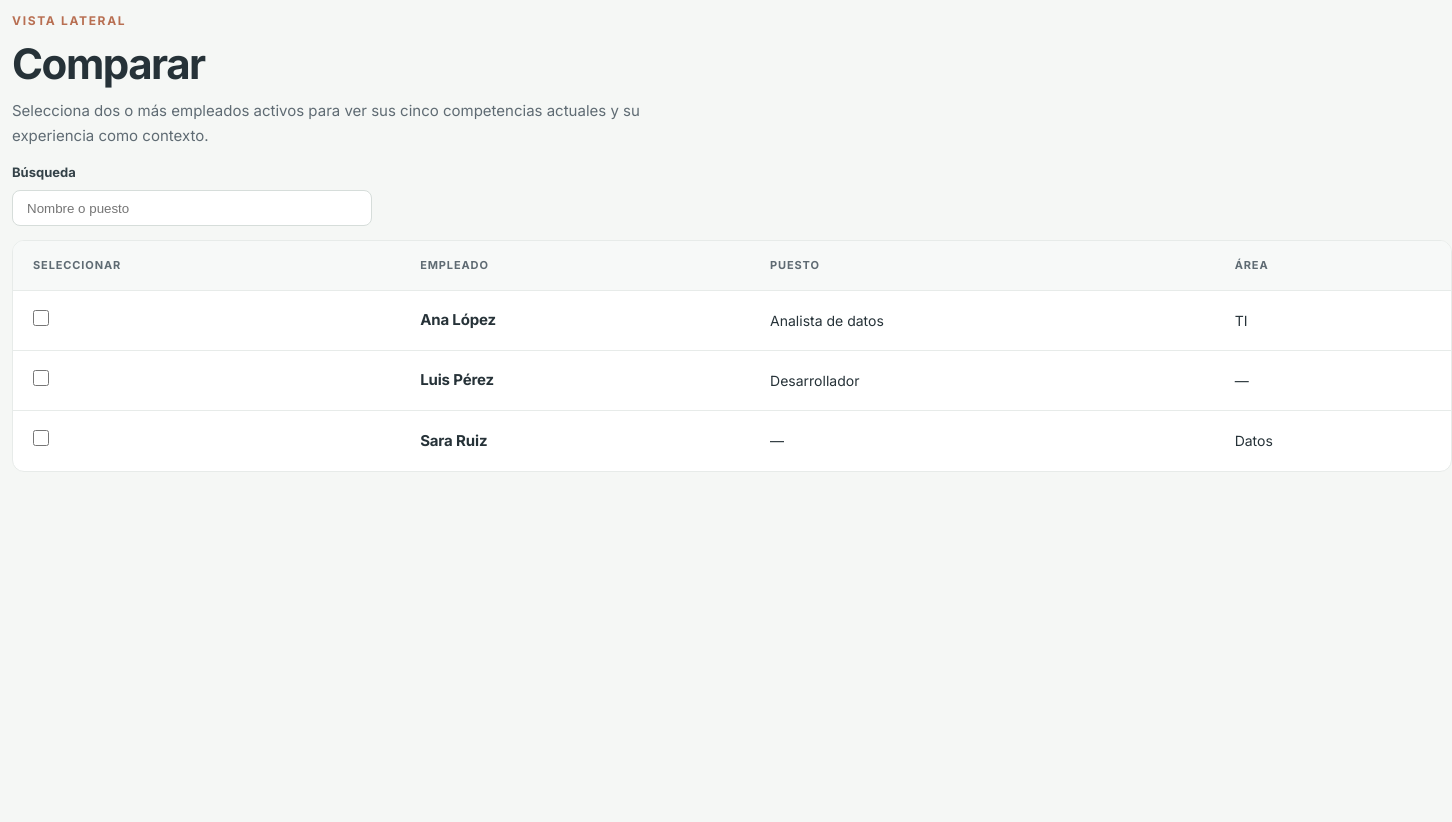
Comparar — selección (paso 1) › sin selección no hay barra contextual; con 1 aparece deshabilitada
The image size is (1452, 822).
expect the column heading "Ana López" is shown: met, box x1=400 y1=290 x2=750 y2=350
expect the text "seleccionad" is not shown: met
Click the checkbox named "Seleccionar a Ana López" at (41, 318), box x1=33 y1=310 x2=49 y2=326
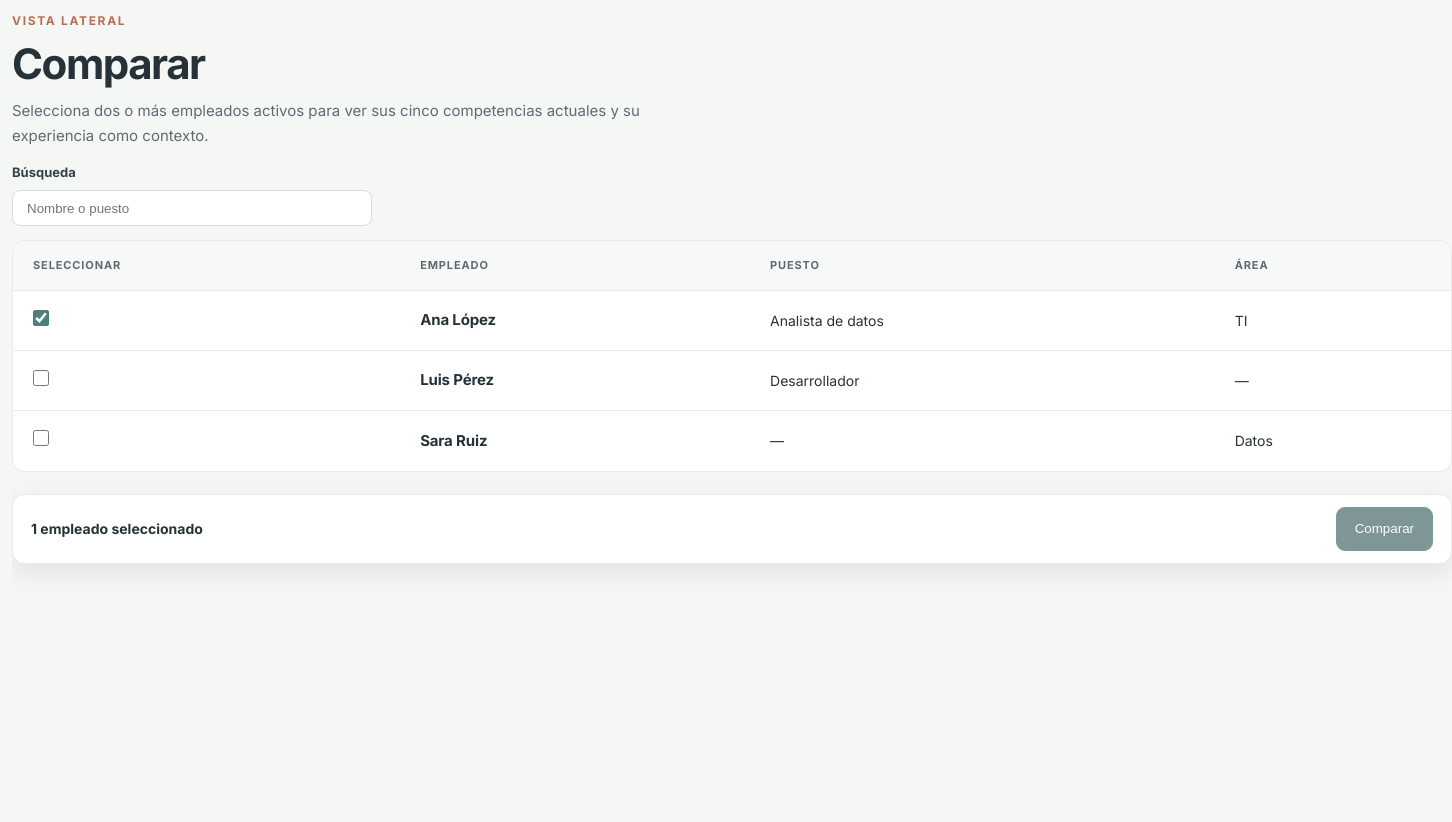
expect the text "1 empleado seleccionado" is shown: met, box x1=31 y1=518 x2=203 y2=539
expect the button "Comparar" is disabled: met, box x1=1336 y1=506 x2=1433 y2=550
